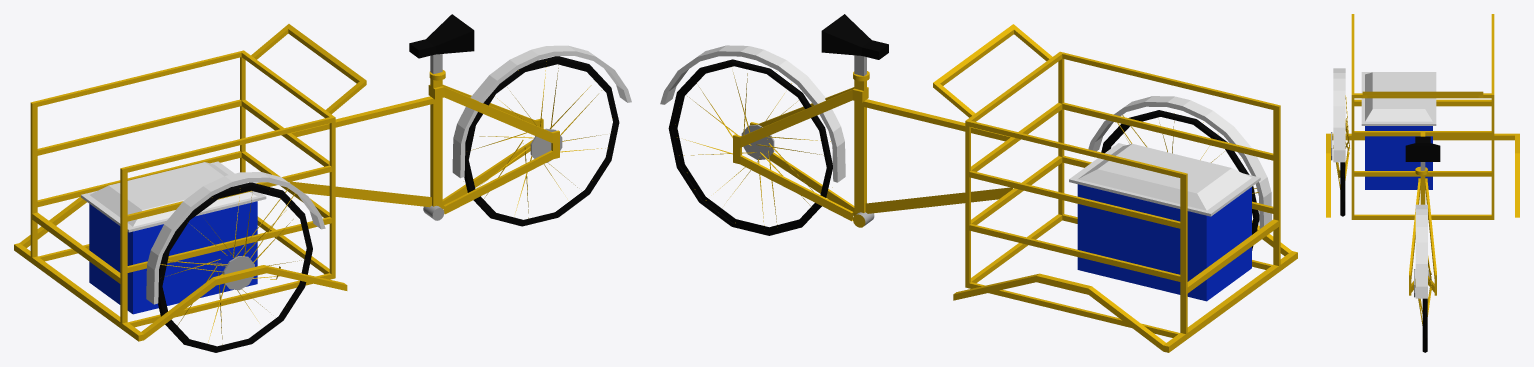
Rendered from TricicloOpt.fbx.
3 views of the same model, side by side, from view 1: azimuth 30°, elevation 25°; view 2: azimuth 150°, elevation 25°; view 3: azimuth 270°, elevation 25° (orthographic). The views are drawn at different scales.
Visible parts, largest first — view 1: Plane; view 2: Plane; view 3: Plane.
Part boxes in pixels (left/top/right/bottom): Plane: left=14, top=14, right=631, bottom=352; Plane: left=660, top=14, right=1297, bottom=352; Plane: left=1326, top=14, right=1519, bottom=352.
Size of the model in its own units: 655 by 254 by 257.
